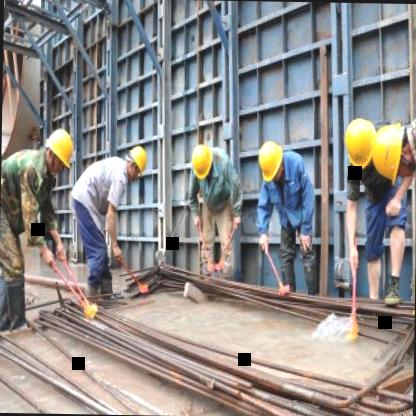helmet: (372, 115, 410, 186), (342, 113, 379, 178), (42, 126, 74, 180), (255, 136, 286, 184), (188, 142, 216, 184), (121, 142, 148, 182)
